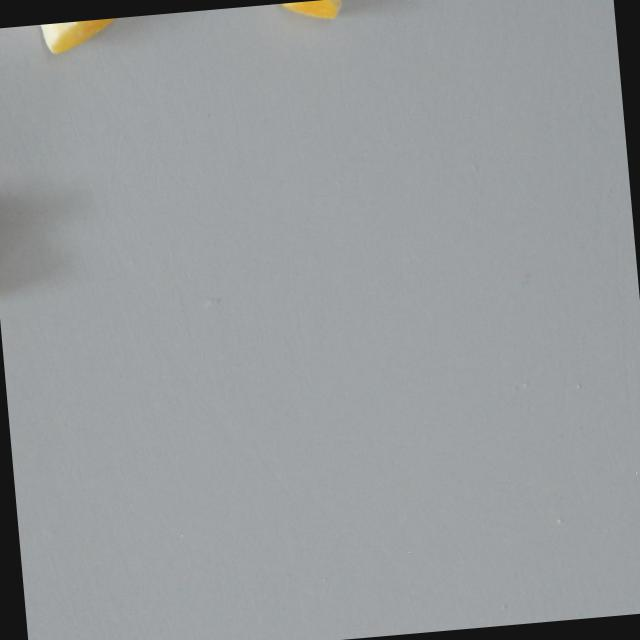dañado: (14, 15, 132, 60), (271, 0, 377, 28), (0, 188, 11, 306)
